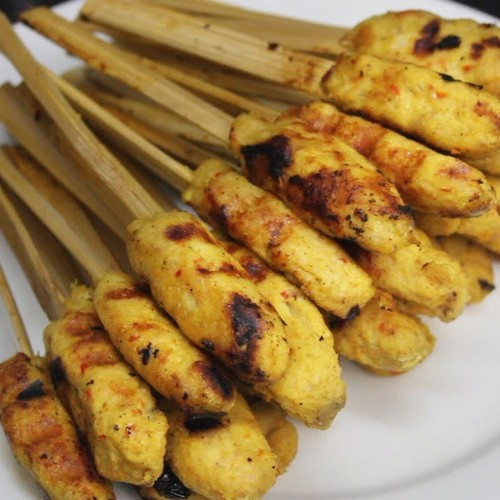sate lilit: (2, 6, 465, 494)
